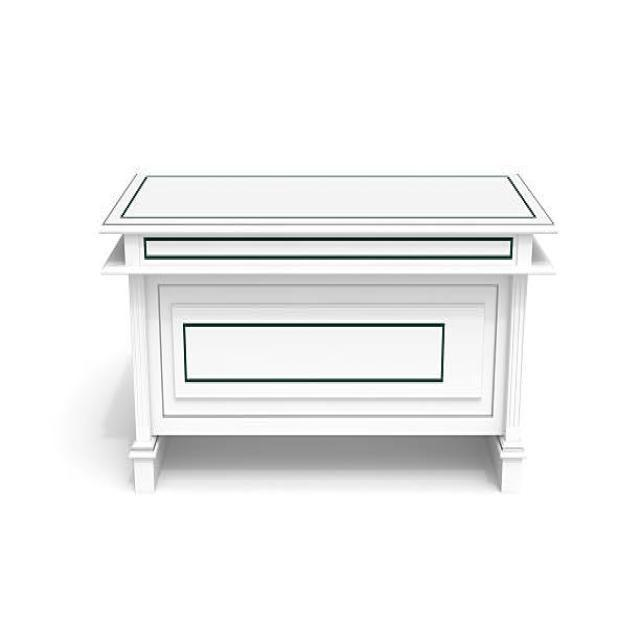table: (98, 167, 558, 496)
